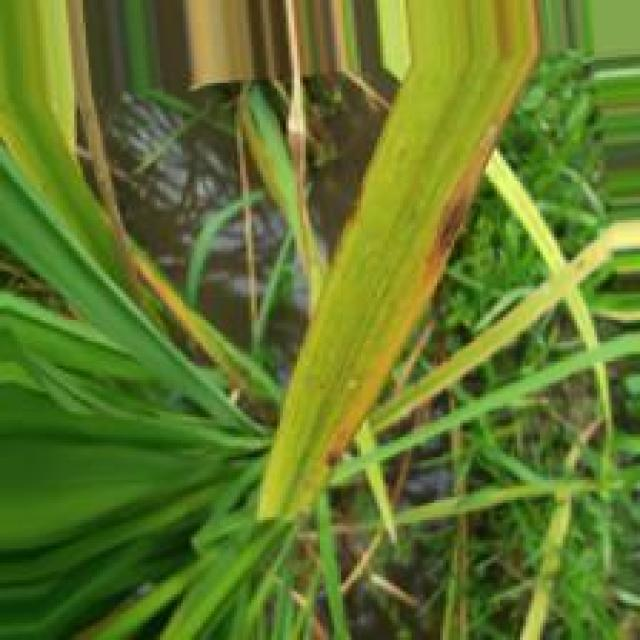Narrow_Brown_Leaf_Spot: (413, 112, 513, 329), (323, 325, 407, 476)
